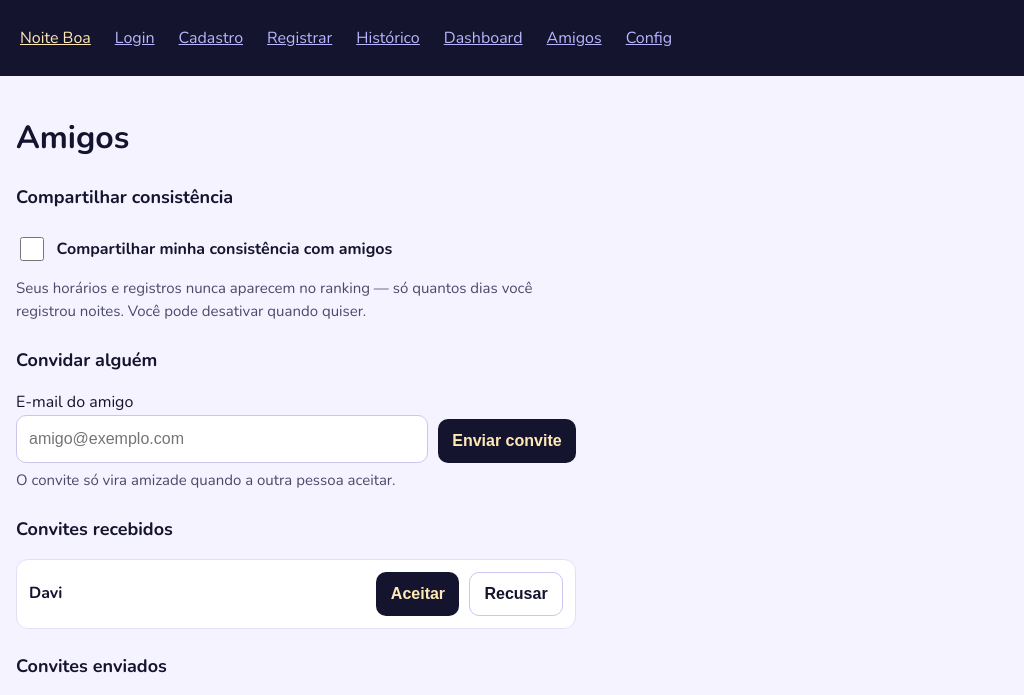
tela de Amigos › envia convite pelo e-mail digitado e confirma
In the field labelled "E-mail do amigo": (222, 439) [16, 415, 428, 463], type "fabio@exemplo.com"
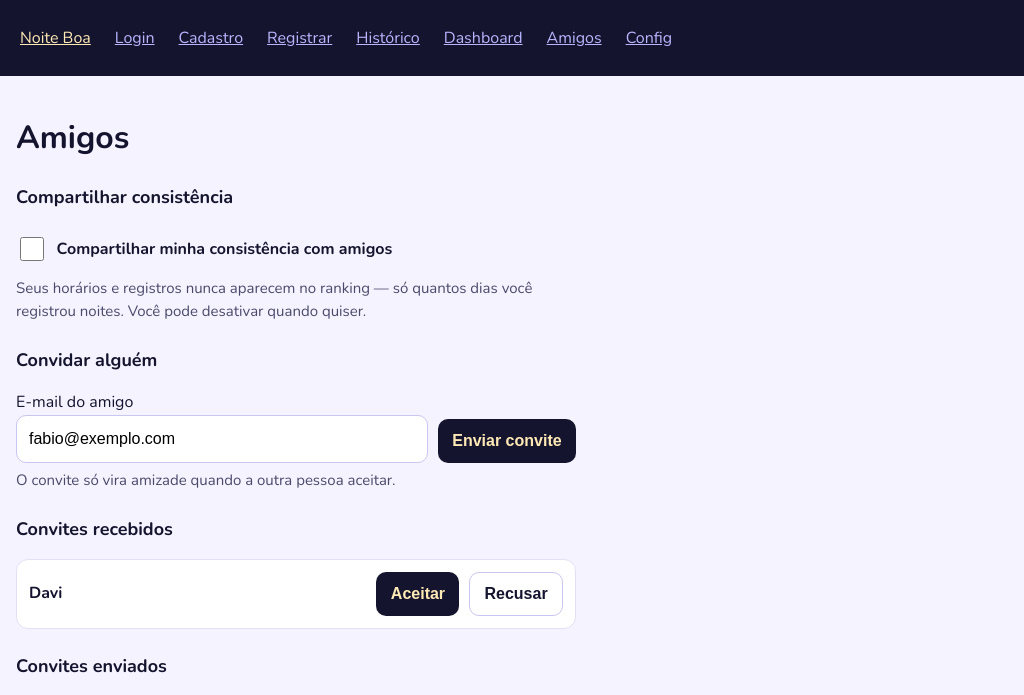
Click the button "Enviar convite": (507, 441) [438, 419, 576, 463]
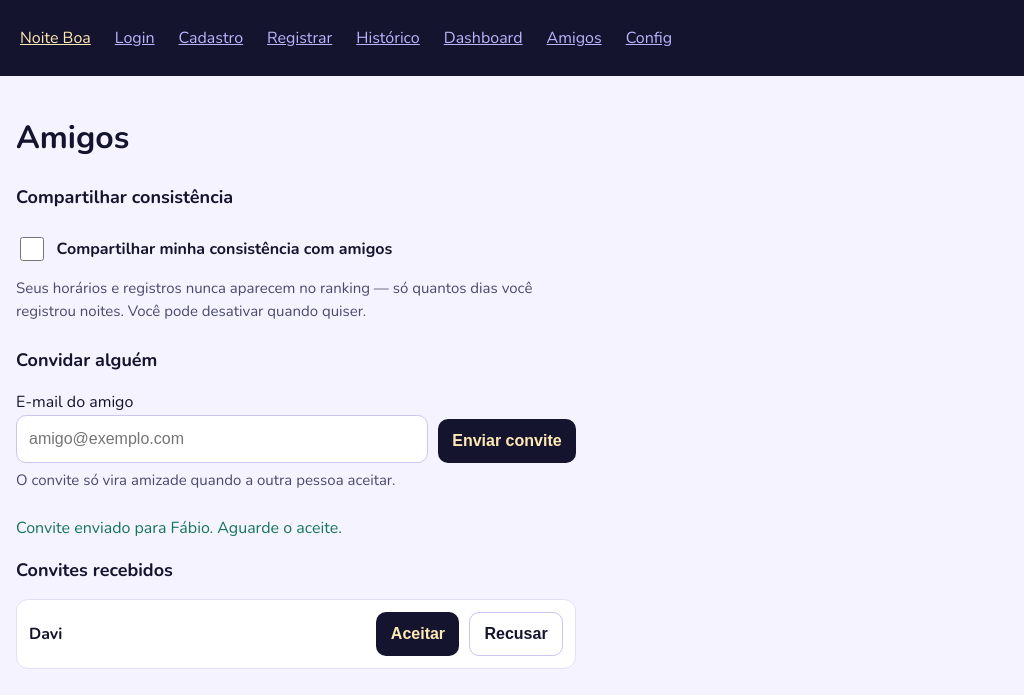
Now the message shows "Convite enviado para Fábio", box [16, 517, 342, 539]
